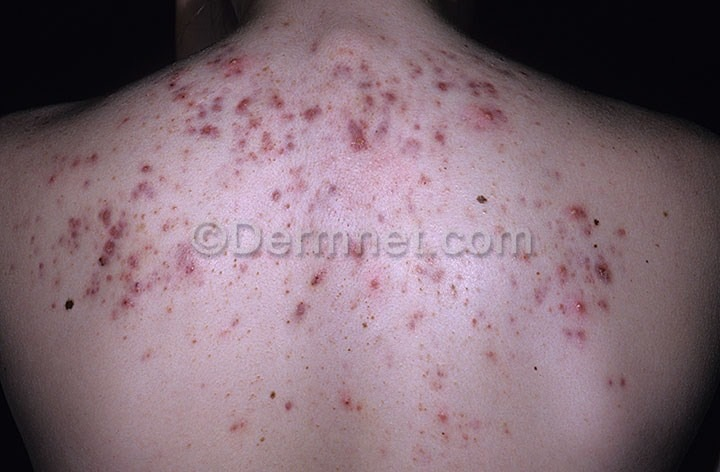Acne: (11, 40, 647, 375)
